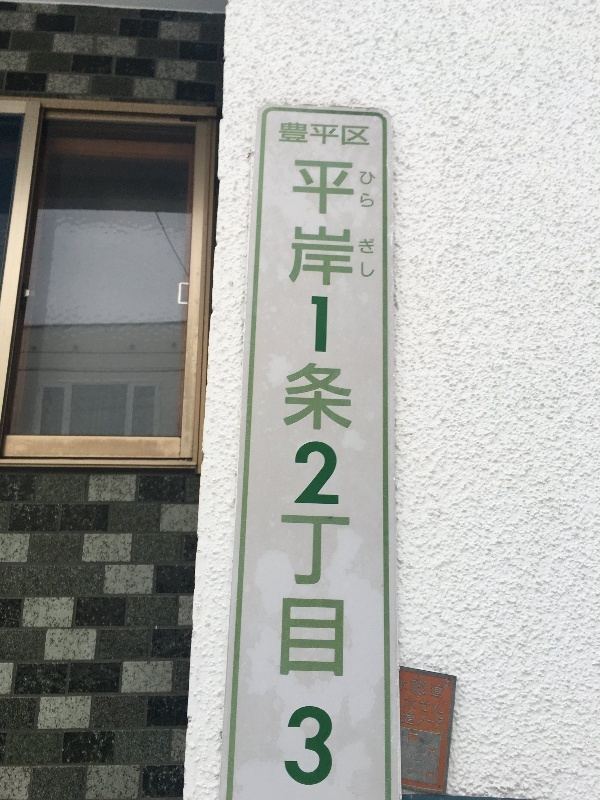text: (305, 155, 320, 794), (321, 155, 336, 794), (337, 155, 352, 794), (294, 155, 304, 794), (353, 155, 358, 794), (289, 121, 304, 148), (305, 121, 320, 148), (321, 121, 336, 148), (337, 121, 352, 148), (353, 121, 368, 148), (359, 238, 368, 281), (360, 171, 368, 210), (369, 171, 376, 210), (369, 238, 375, 281), (280, 121, 288, 148), (369, 121, 370, 148)
